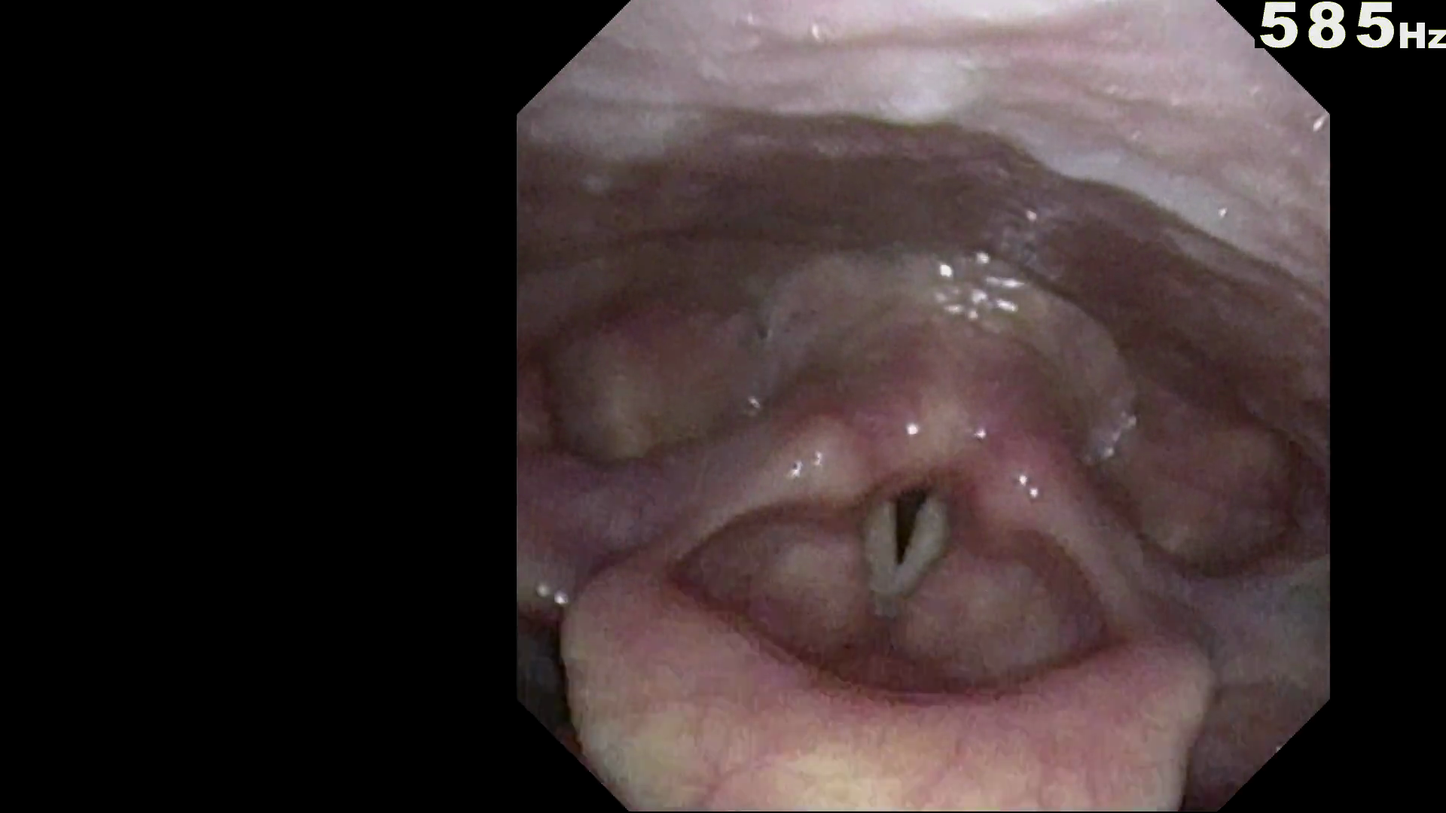epiglottis: (598, 602, 1216, 785)
trachea: (849, 453, 966, 599)
